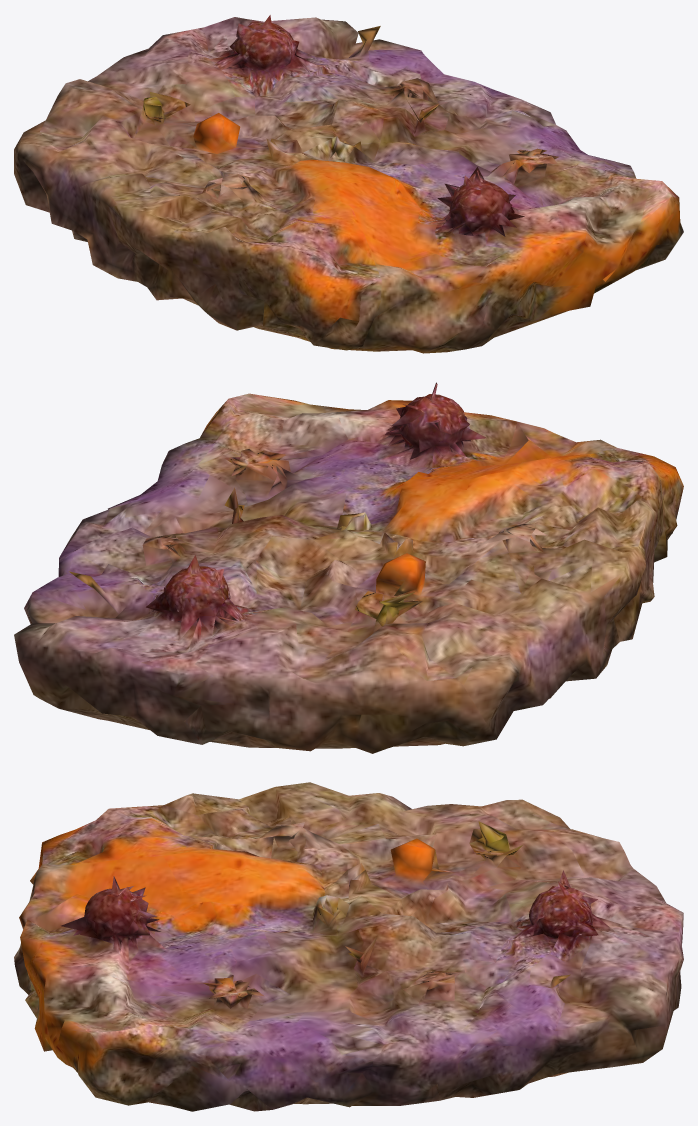
Rendered from rockB.glb.
The picture shows the model from 3 angles, top to bottom: view 1: azimuth 30°, elevation 25°; view 2: azimuth 150°, elevation 25°; view 3: azimuth 270°, elevation 25°; orthographic projection. The views are drawn at different scales.
Visible parts, largest first — view 1: tripo_node_68280e2d-5305-4f31-ba10-6885404862fb; view 2: tripo_node_68280e2d-5305-4f31-ba10-6885404862fb; view 3: tripo_node_68280e2d-5305-4f31-ba10-6885404862fb.
Part boxes in pixels (left/top/right/bottom): tripo_node_68280e2d-5305-4f31-ba10-6885404862fb: left=14, top=15, right=683, bottom=353; tripo_node_68280e2d-5305-4f31-ba10-6885404862fb: left=14, top=382, right=683, bottom=753; tripo_node_68280e2d-5305-4f31-ba10-6885404862fb: left=14, top=782, right=683, bottom=1111.
Size of the model in its own units: 0.834 by 0.2576 by 1.
1 material, 1 textured.
